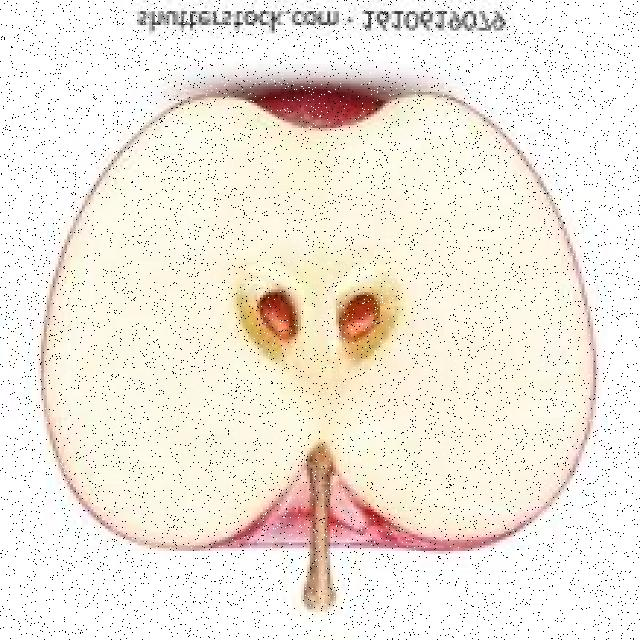Apple: (42, 93, 596, 553)
